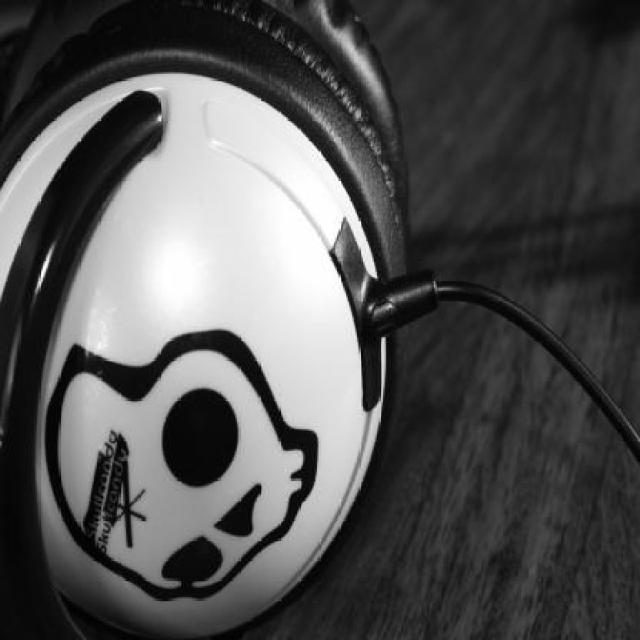earphone: (0, 0, 473, 628)
